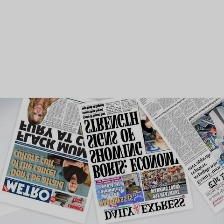news_paper: (74, 97, 195, 222), (0, 97, 93, 224), (128, 96, 224, 214)
